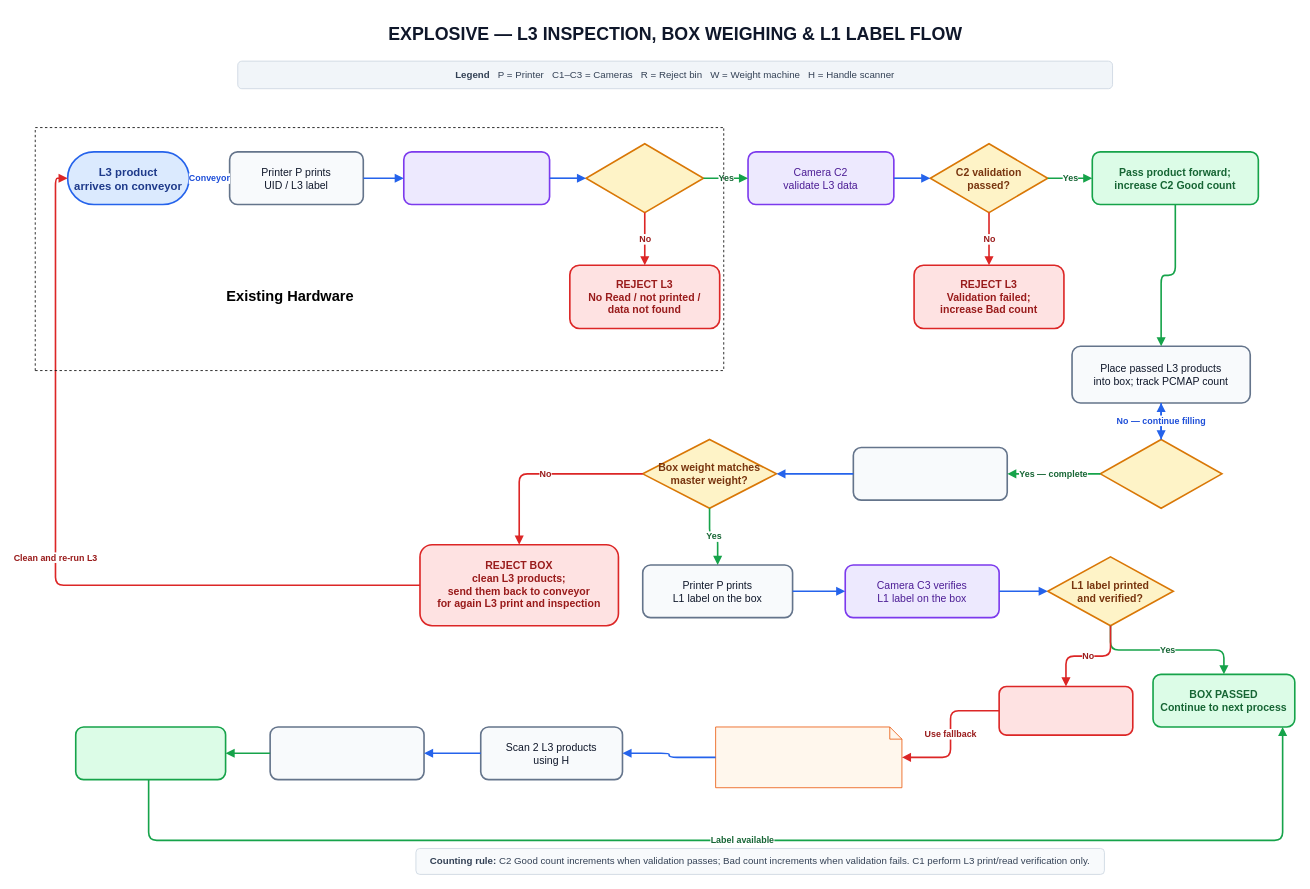
Some shapes in this 1310 by 889 pixel diagram are drawn without their labels. Each missing label, with the centre of its shape:
"Existing C1 Camera read printed L3 data" goes at [476,178].
"L3 label readable and data found?" goes at [644,178].
"Label print / verification failed" goes at [1065,710].
"Label printed; verify and continue" goes at [150,753].
"Manual fallback: Use handle scanner H when L1 box printing fails" goes at [808,757].
"PCMAP complete? Example: 9 / 9" goes at [1160,473].
"SATO printer prints the L1 box label" goes at [346,753].
"Weigh the box on weight machine W" goes at [930,473].
